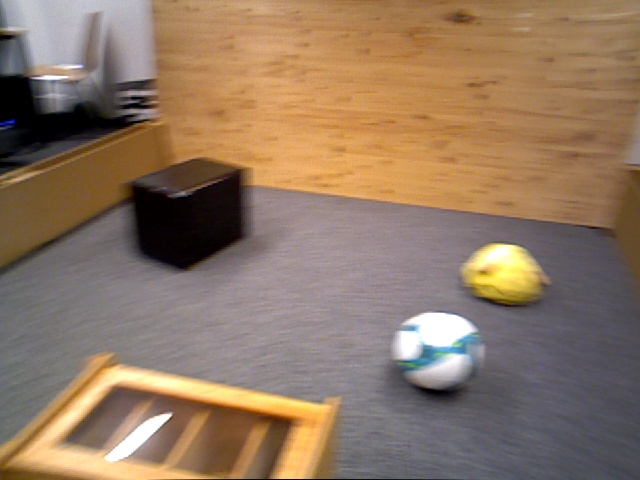grasp: (461, 242, 550, 305)
kick: (393, 312, 485, 394)
push: (128, 158, 247, 270)
